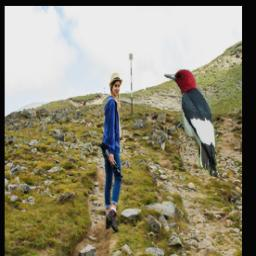Woodpecker: (164, 68, 222, 177)
